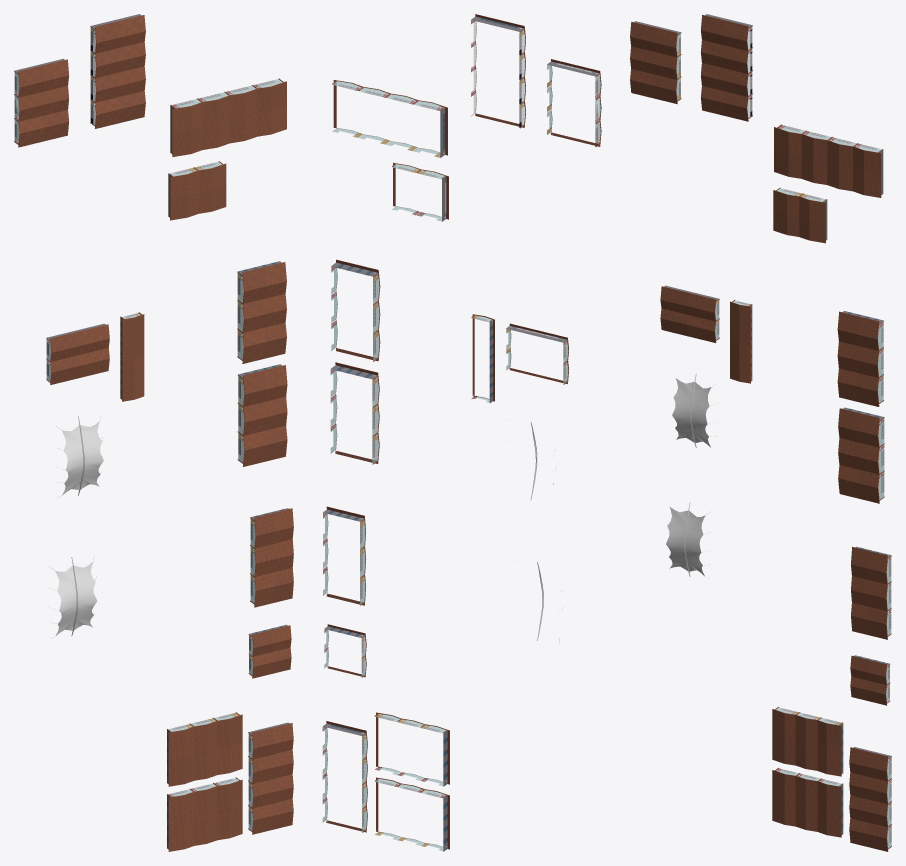
The model's file is sg_fmh.gltf.
3 views of the same model, side by side, from view 1: azimuth 30°, elevation 25°; view 2: azimuth 150°, elevation 25°; view 3: azimuth 330°, elevation 25° (orthographic). The views are drawn at different scales.
Parts seen in each view (by area): view 1: Text167; view 2: Text167; view 3: Text167.
Boxes of the visible parts, box(x1,y1,x2,y2) form: Text167: box(14, 14, 293, 851); Text167: box(322, 14, 601, 851); Text167: box(630, 14, 891, 851).
Size of the model in its own units: 392 by 1158 by 19.01.
Materials: 13 (13 with a texture image).
